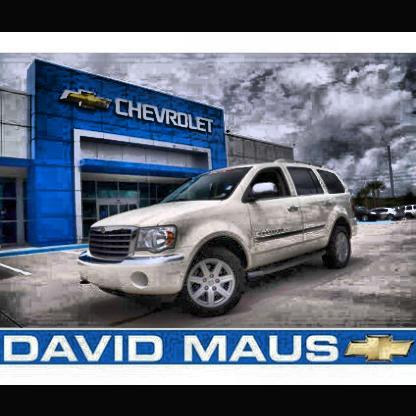Chrysler Aspen SUV 2009: (82, 159, 360, 315)
